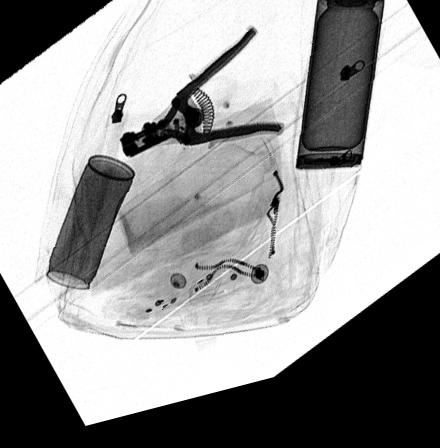Pliers: (117, 38, 282, 165)
